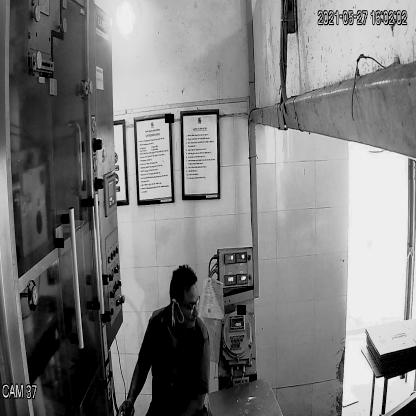goggles: (168, 291, 202, 316)
